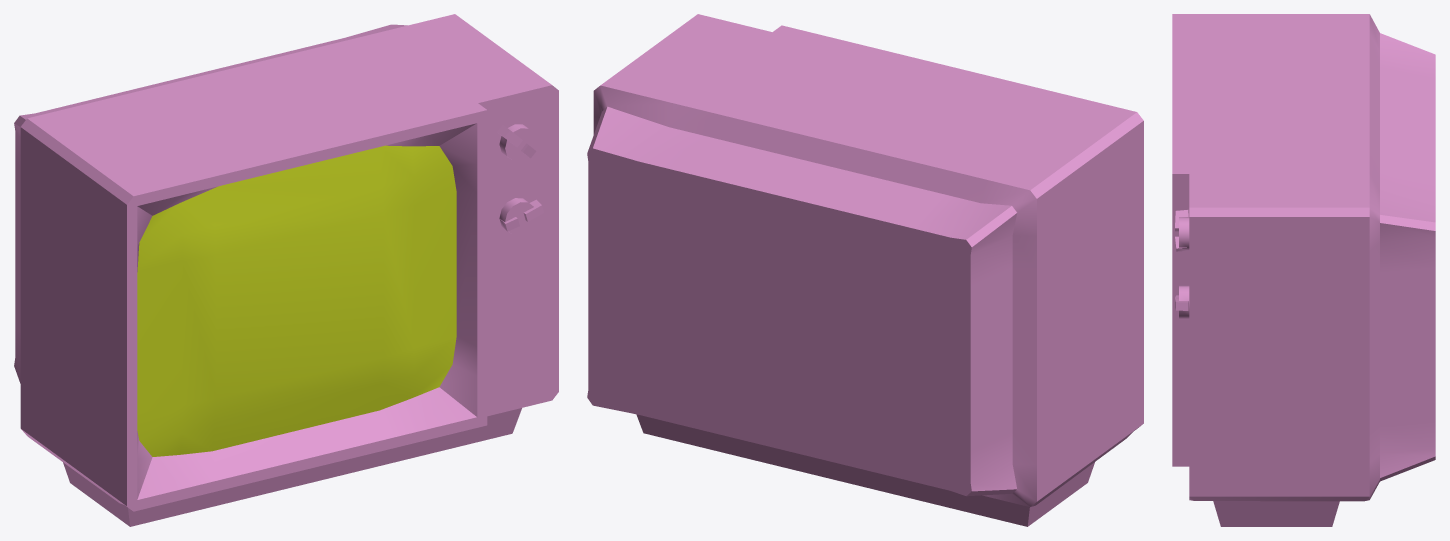
The picture shows the model from 3 angles, left to right: view 1: azimuth 30°, elevation 25°; view 2: azimuth 150°, elevation 25°; view 3: azimuth 270°, elevation 25°; orthographic projection. The views are drawn at different scales.
Visible parts, largest first — view 1: TV_LP, TVknob_LP, TVknob2_LP; view 2: TV_LP; view 3: TV_LP, TVknob2_LP, TVknob_LP.
Boxes of the visible parts, bbox=[...] form: TV_LP: bbox=[14, 14, 558, 526]; TVknob_LP: bbox=[499, 198, 543, 234]; TVknob2_LP: bbox=[497, 124, 536, 161]; TV_LP: bbox=[587, 14, 1143, 526]; TV_LP: bbox=[1172, 14, 1435, 526]; TVknob2_LP: bbox=[1175, 210, 1189, 251]; TVknob_LP: bbox=[1175, 285, 1189, 319].
Size of the model in its own units: 78.59 by 60.5 by 43.83.
